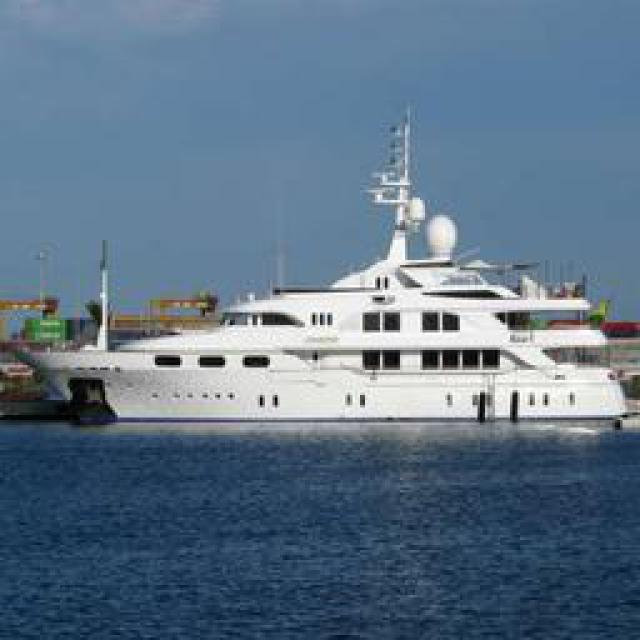Ship: (31, 113, 621, 431)
